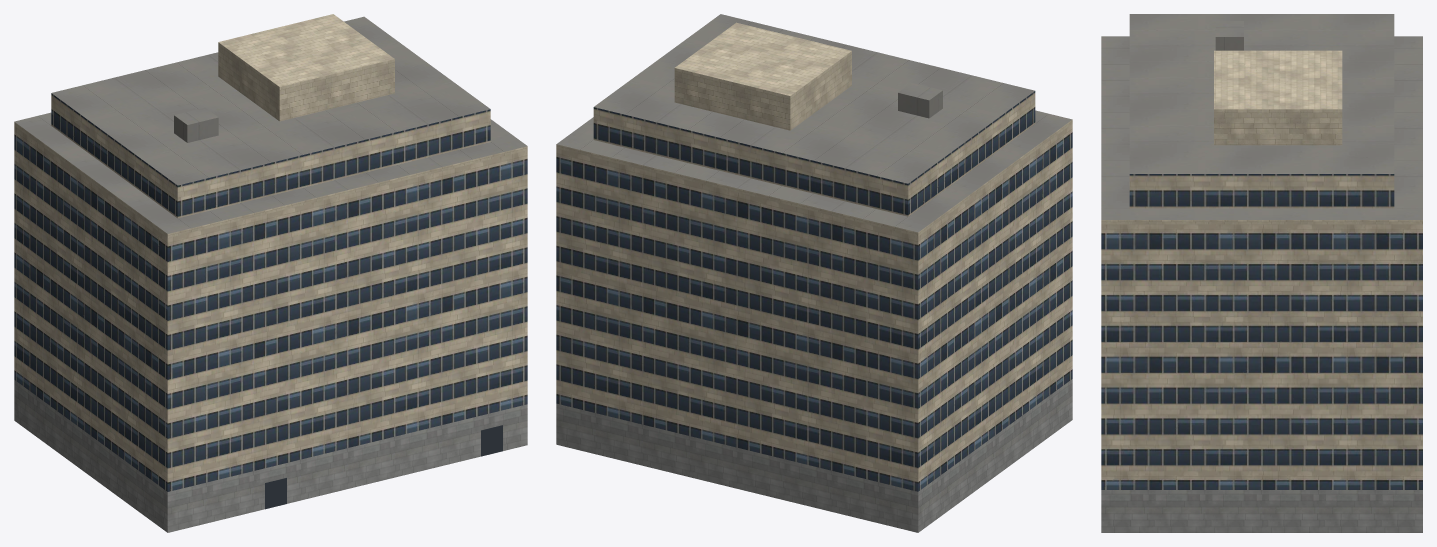
The model's file is dc_office_band.glb.
3 views of the same model, side by side, from view 1: azimuth 30°, elevation 25°; view 2: azimuth 150°, elevation 25°; view 3: azimuth 270°, elevation 25° (orthographic). The views are drawn at different scales.
Parts seen in each view (by area): view 1: dc_office_band; view 2: dc_office_band; view 3: dc_office_band.
Part boxes in pixels (x1,y1,x2,y2): dc_office_band: (14,14,527,532); dc_office_band: (556,14,1072,532); dc_office_band: (1101,14,1422,532).
Bounding box in the file's own units: 46 × 44.7 × 34.02.
5 materials, 5 textured.
